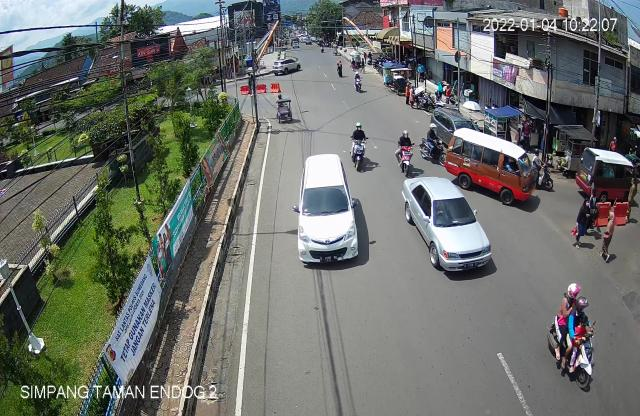Mobil: (398, 172, 491, 285), (290, 148, 366, 276), (444, 126, 538, 210), (578, 143, 640, 209)
Motor: (546, 280, 597, 389), (348, 117, 370, 172), (418, 124, 446, 164), (392, 127, 416, 173)
